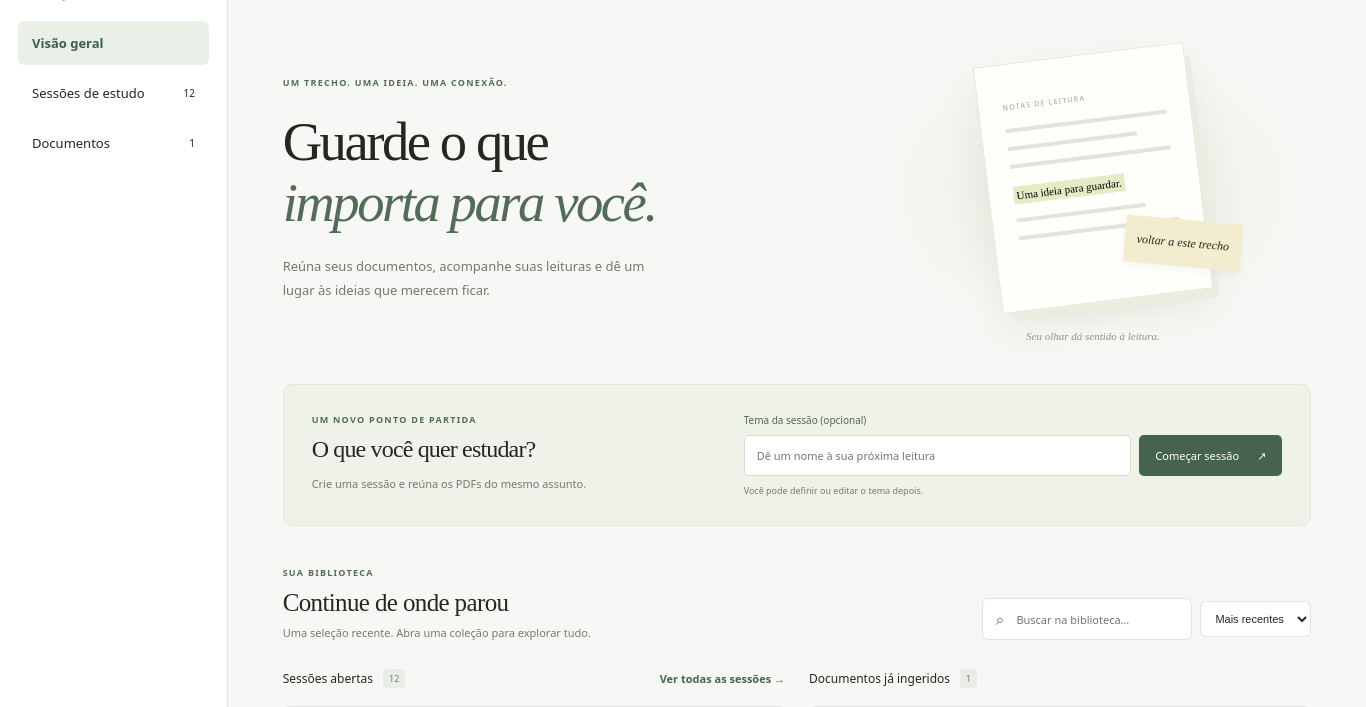
Test: SessionLibrary › keeps the overview short and paginates the complete session collection
expect the text "Sessão 8" is not shown: met
Click the button "Ver todas as sessões →" at (718, 678), box [652,666,785,690]
(page scrolled)
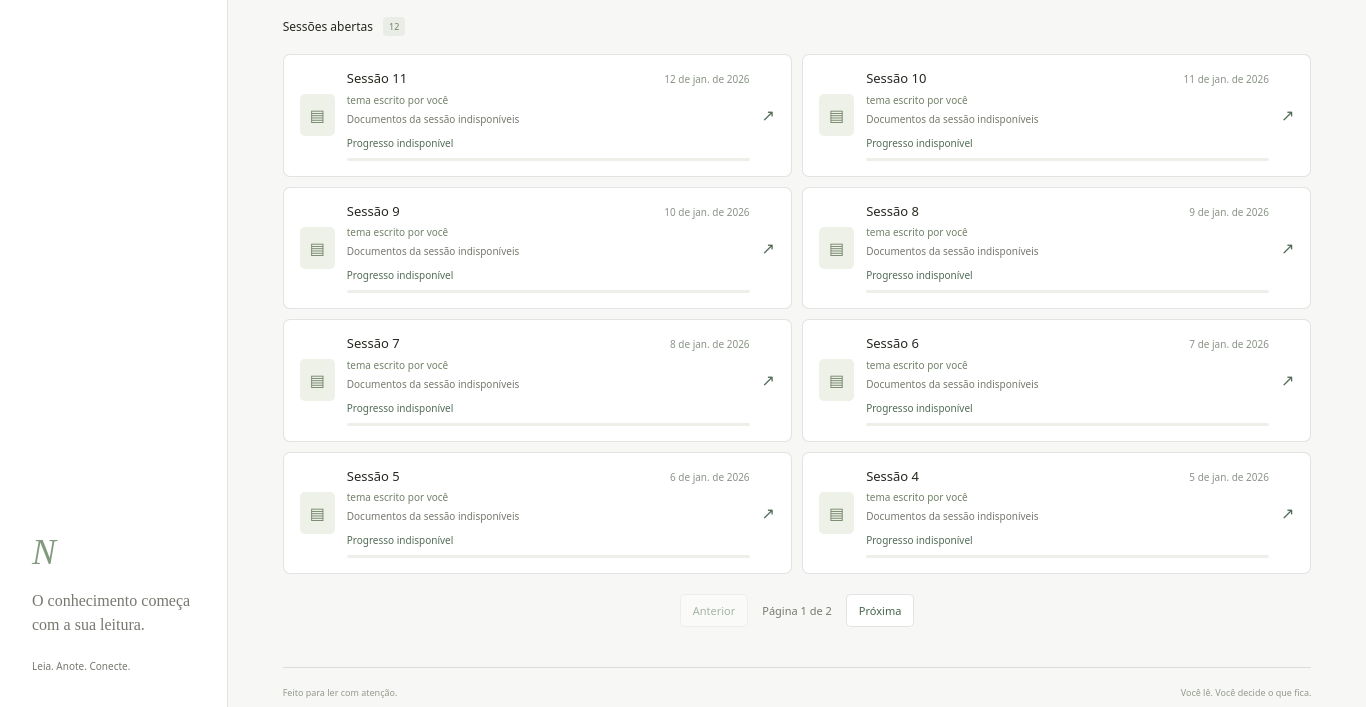
expect the text "Sessão 3" is not shown: met
expect the text "Sessão 4" is shown: met, box [866,468,919,485]
expect the text "Página 1 de 2" is shown: met, box [762,603,832,618]
Click the button with aria-label "Próxima página de sessões" at (880, 611), box [846,594,914,627]
(page scrolled)
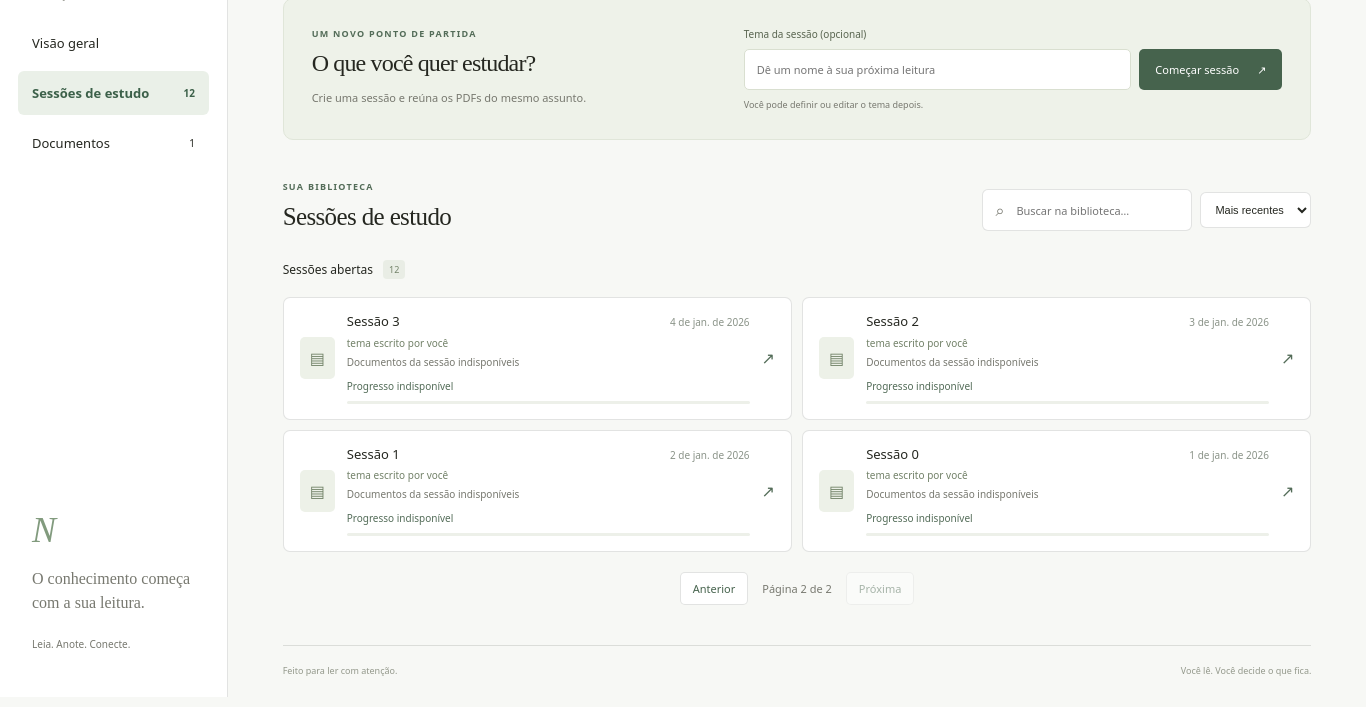
expect the text "Sessão 3" is shown: met, box [347,313,400,330]
expect the button "Sessão 11" is gone: met
expect the text "Página 2 de 2" is shown: met, box [762,581,832,596]
Type "Sessão 11" into the search field at (1097, 210), box [1014,202,1179,218]
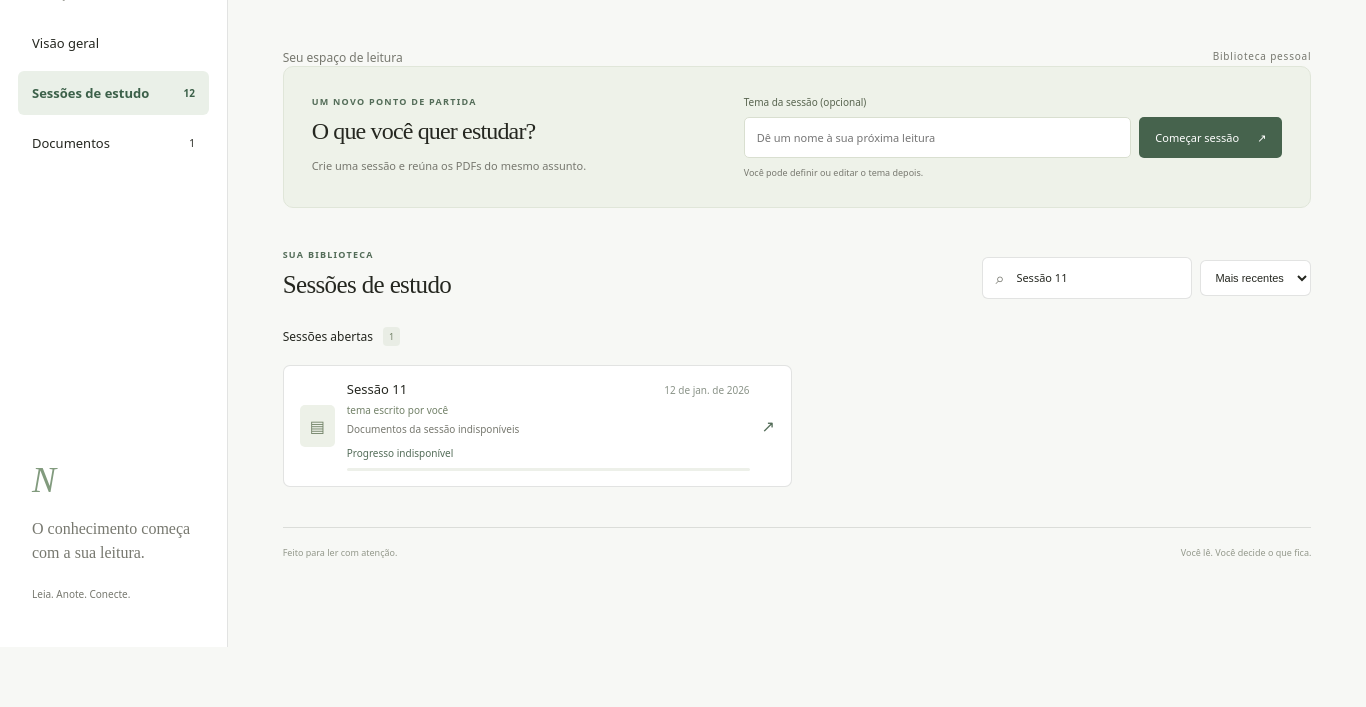
expect the text "Sessão 11" is shown: met, box [347,381,407,398]
expect the text "Página 2 de 2" is gone: met
